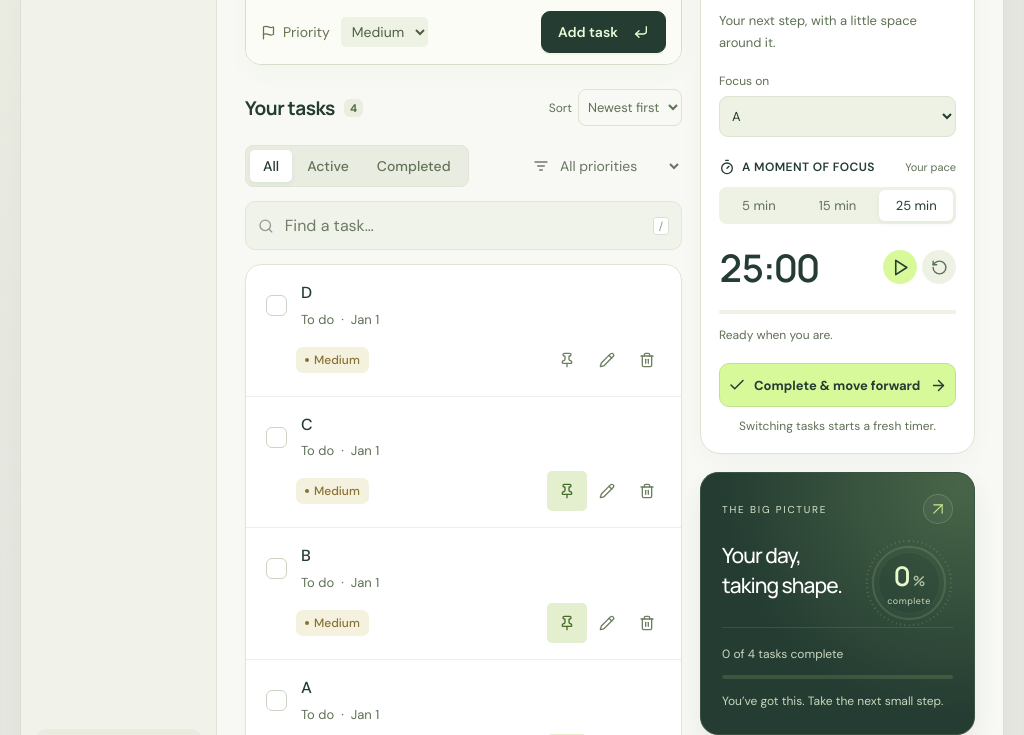
Required task flows › limits focus pins and completing the studio advances to another task
(page scrolled)
Click the button named "Pin D to focus queue": (567, 360) 547,340 -> 587,380
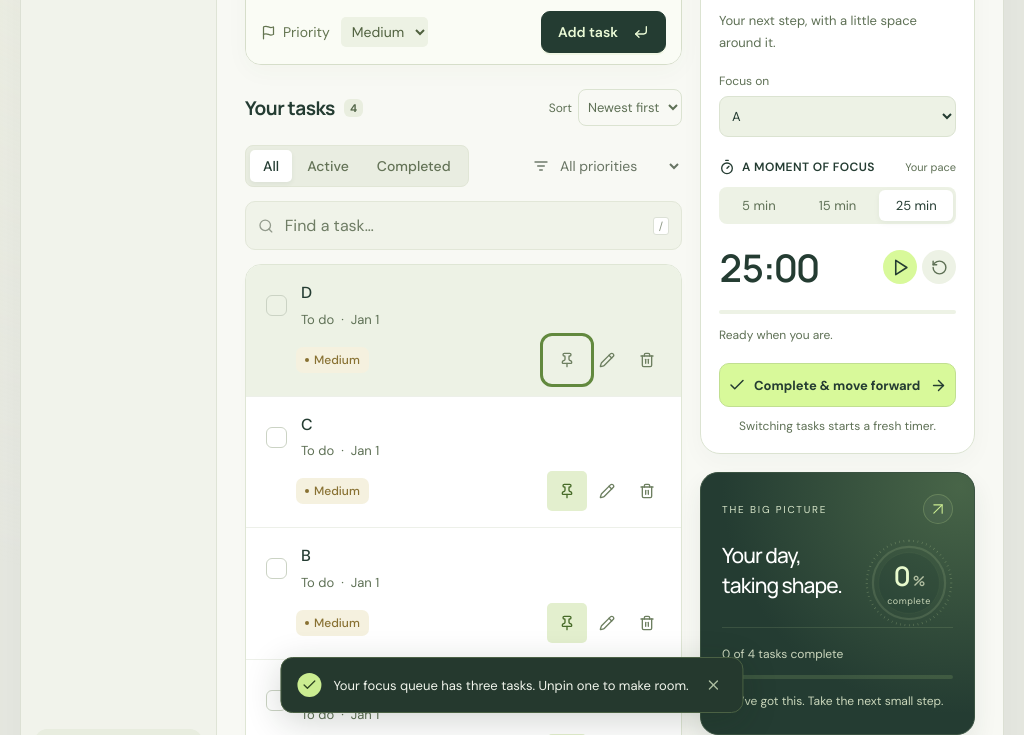
Click the button "Complete & move forward": (838, 386) 719,364 -> 956,408
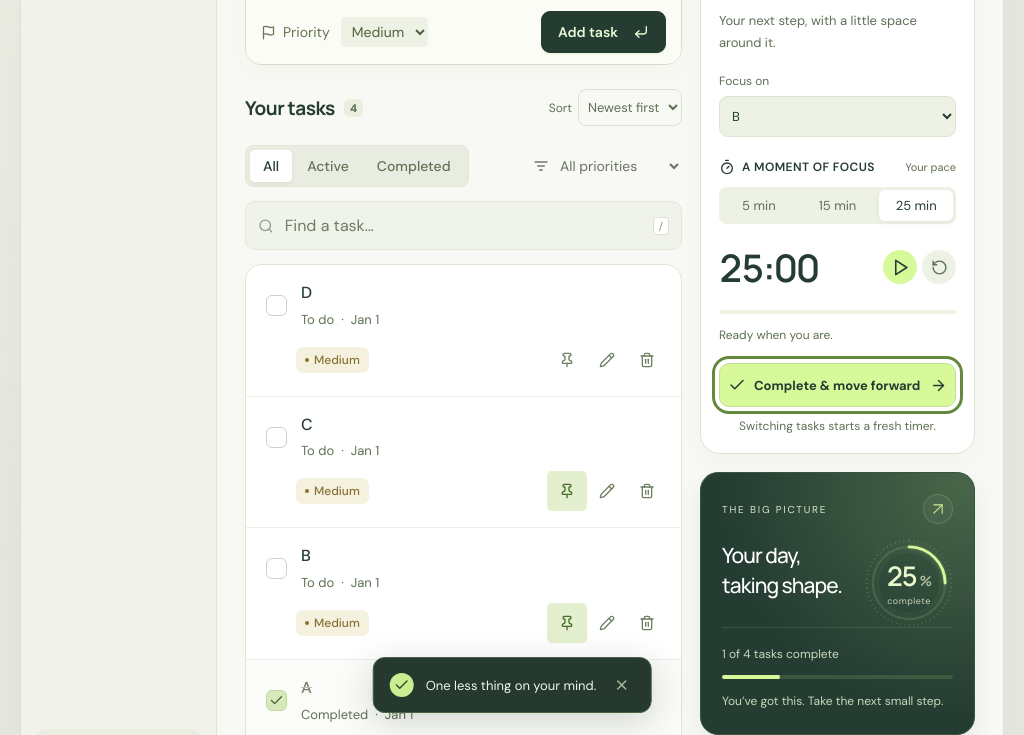
Expected: the checkbox named "Mark A as active" is checked, 266,690 -> 286,711
